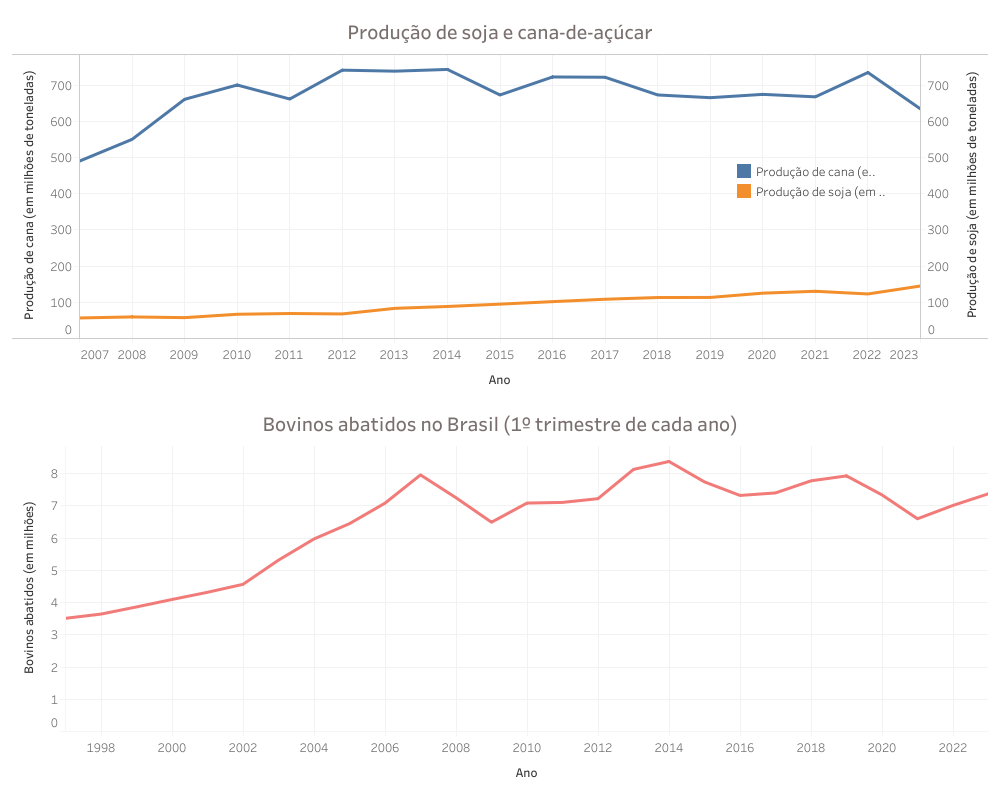

What the dashboard file says about the page in this screenshot:
{"tool":"tableau","page":{"name":"Produção agropecuária","canvas":[1000,800],"ordinal":2},"visuals":[{"type":"worksheet","title":"Soja x Cana","mark":"Automatic","rows":["Produção de cana (em milhões de toneladas)","Produção de soja (em milhões de toneladas)"],"cols":["Ano"],"box":[8,8,984,392]},{"type":"legend","title":"Soja x Cana","param":"[federated.0u352p2080zd8u1aue3xx1da6vhz].[:Measure Names]","box":[734,161,152,59]},{"type":"worksheet","title":"Abatimento","mark":"Automatic","rows":["Bovinos abatidos (em milhões)"],"cols":["Ano"],"box":[8,400,984,392]}]}

Visuals, with their boxes in screenshot pixels (x1, y1, x2, y2), scaled from the page's 1000x800 canvas onto the 999x799 screenshot:
"Soja x Cana" worksheet: (x1=8, y1=8, x2=991, y2=400)
"Soja x Cana" legend: (x1=733, y1=161, x2=885, y2=220)
"Abatimento" worksheet: (x1=8, y1=400, x2=991, y2=791)
